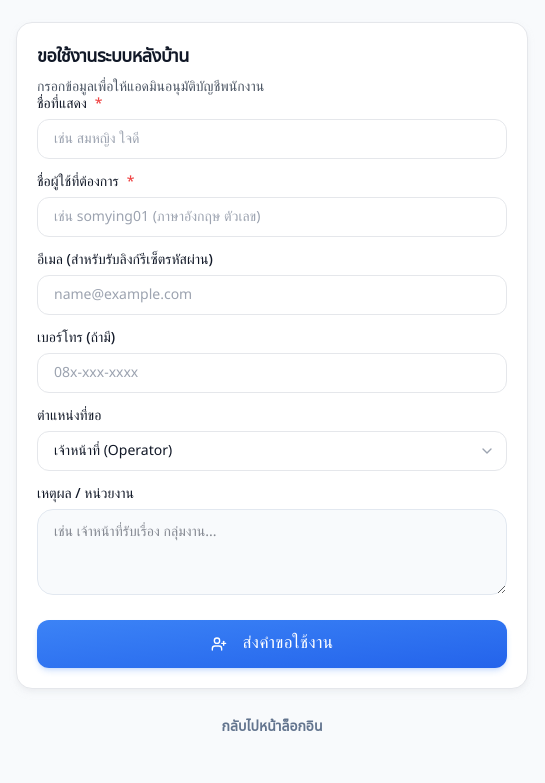
Test: Request access form › warns when required fields are empty
Click the button "ส่งคำขอใช้งาน" at (272, 644), box [37, 620, 507, 668]
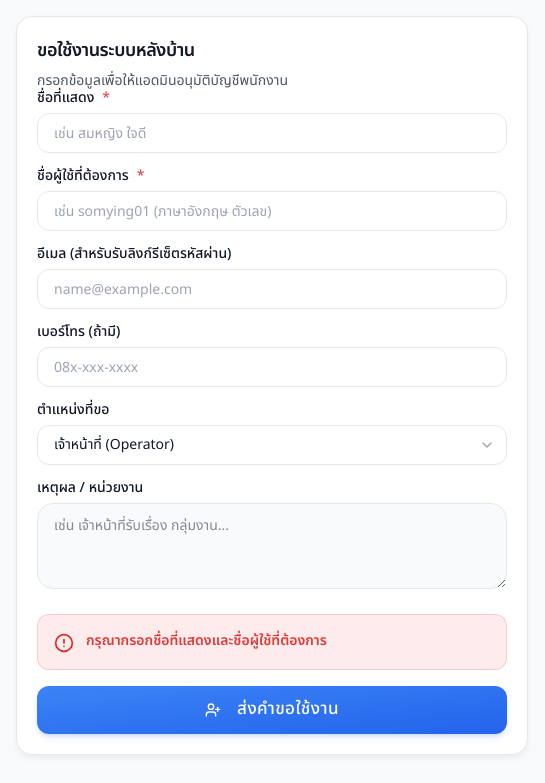
Expected: the text "กรุณากรอกชื่อที่แสดงและชื่อผู้ใช้ที่ต้องการ" is shown, [86, 630, 327, 651]
